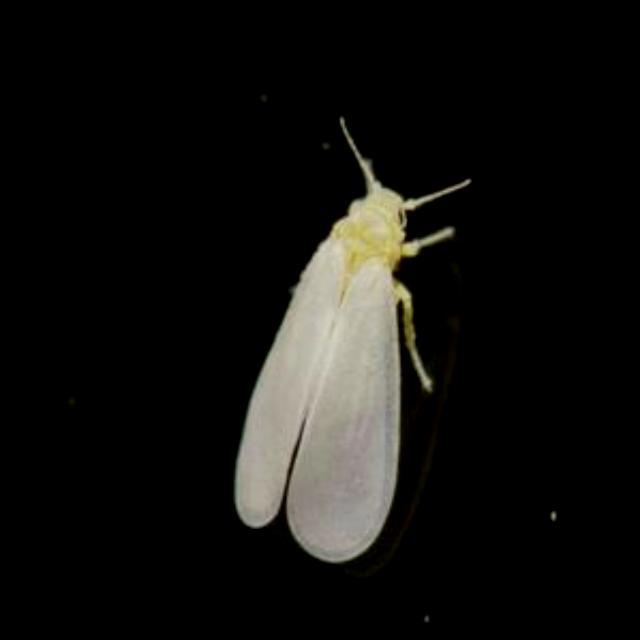Silverleaf whitefly: (202, 106, 498, 566)
